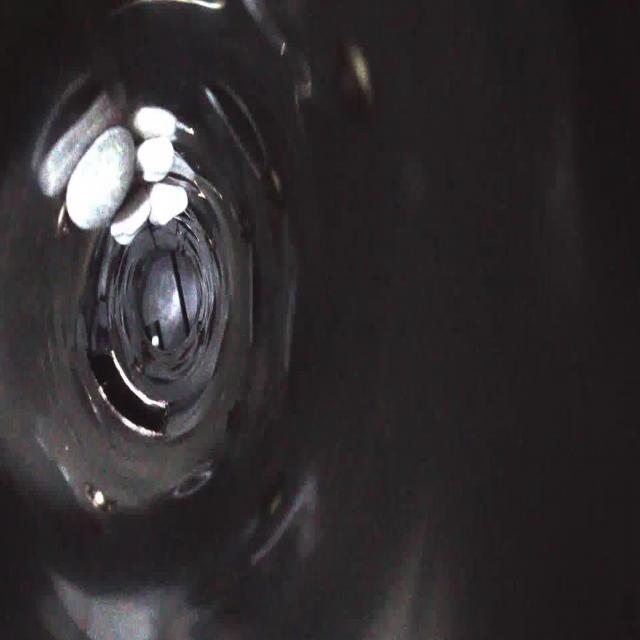crack: (100, 296, 135, 352), (100, 228, 132, 288), (206, 234, 229, 288), (202, 299, 225, 351), (167, 206, 199, 243), (162, 358, 208, 378), (146, 372, 172, 394)
hole: (84, 347, 171, 443)
